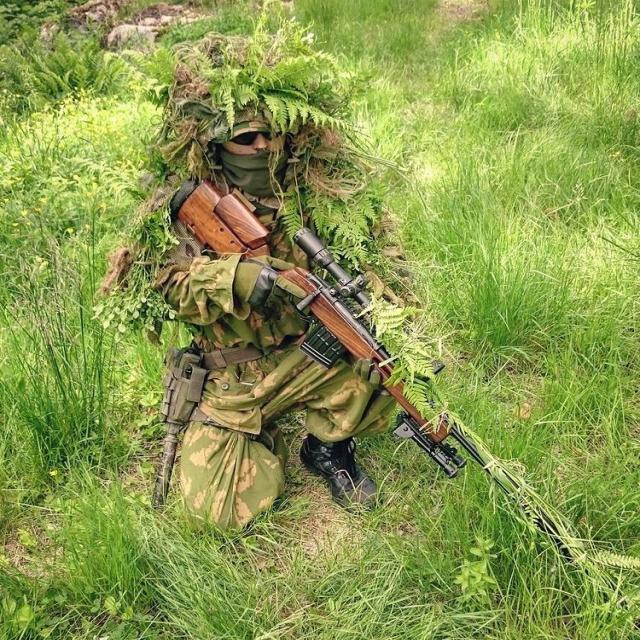Human: (91, 28, 480, 533)
